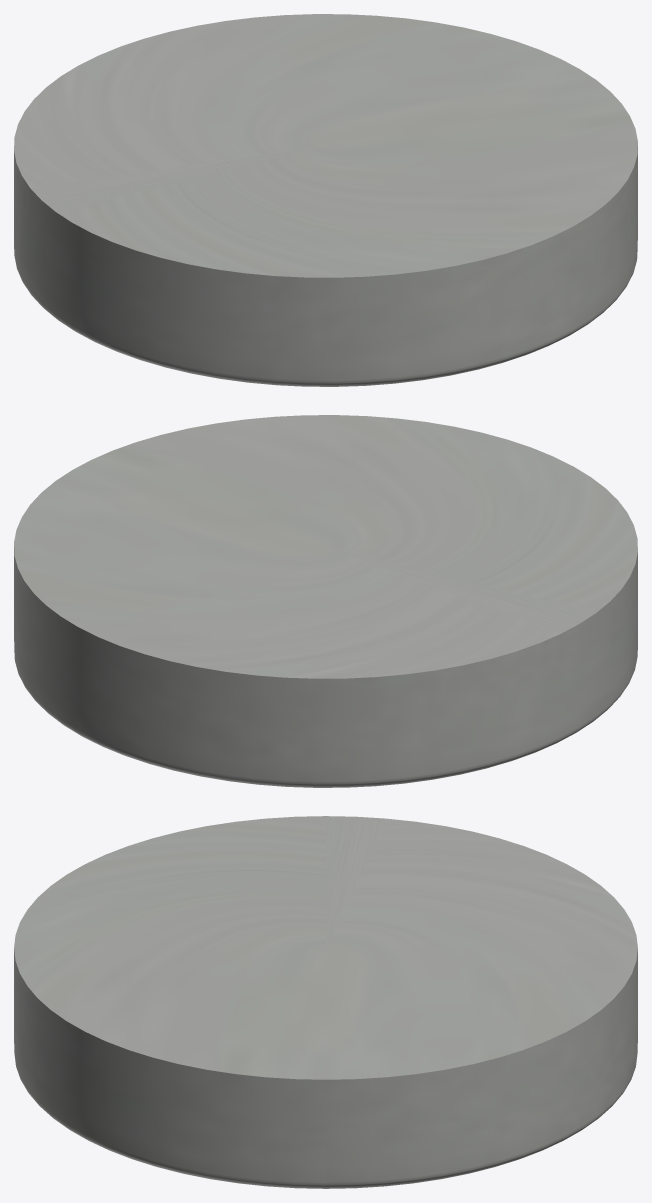
Rendered from Speaker.fbx.
3 views of the same model, one above another, from view 1: azimuth 30°, elevation 25°; view 2: azimuth 150°, elevation 25°; view 3: azimuth 270°, elevation 25° (orthographic).
Visible parts, largest first — view 1: Cylinder.001; view 2: Cylinder.001; view 3: Cylinder.001.
Boxes of the visible parts, x1,y1,x2,y2 form: Cylinder.001: [14, 14, 637, 386]; Cylinder.001: [14, 415, 637, 787]; Cylinder.001: [14, 816, 637, 1188].
Bounding box in the file's own units: 35.99 × 8.29 × 35.99.
